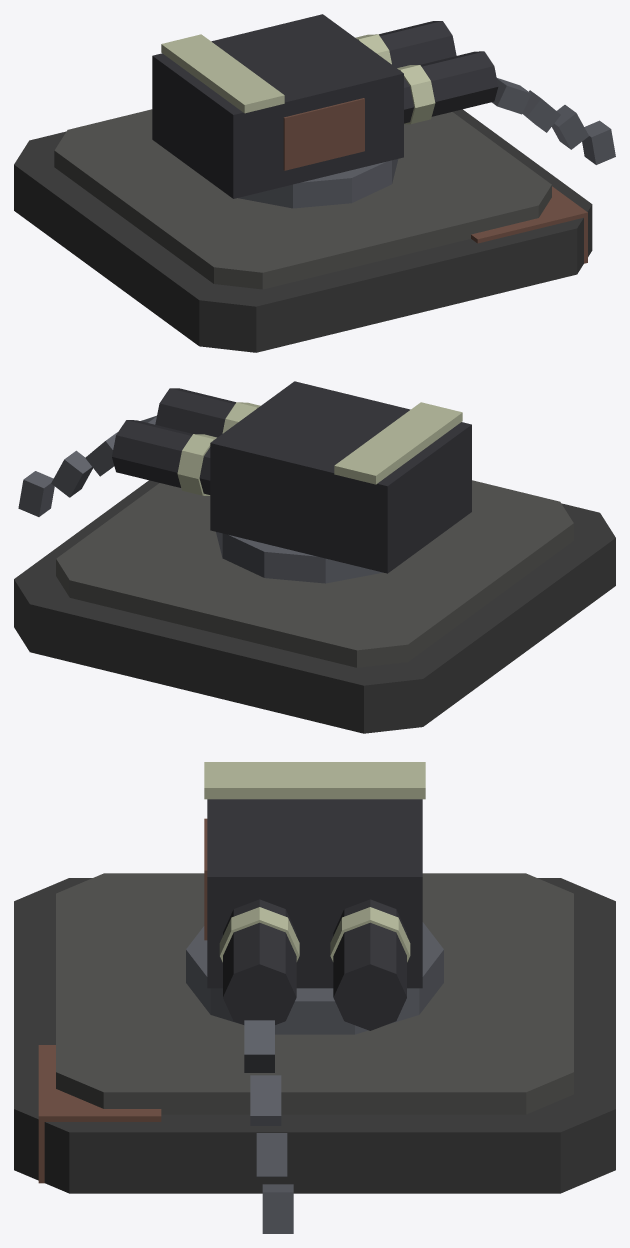
Rendered from ancient_autocannon_turret_1.obj.
3 renders of one model, top to bottom at view 1: azimuth 30°, elevation 25°; view 2: azimuth 150°, elevation 25°; view 3: azimuth 270°, elevation 25°, orthographic. The views are drawn at different scales.
Visible parts, largest first — view 1: ancient_autocannon_turret_1; view 2: ancient_autocannon_turret_1; view 3: ancient_autocannon_turret_1.
Boxes of the visible parts, left/top/right/bottom form: ancient_autocannon_turret_1: left=14, top=14, right=615, bottom=352; ancient_autocannon_turret_1: left=14, top=381, right=615, bottom=733; ancient_autocannon_turret_1: left=14, top=762, right=615, bottom=1233.
Bounding box in the file's own units: 2.44 × 0.86 × 1.96.
